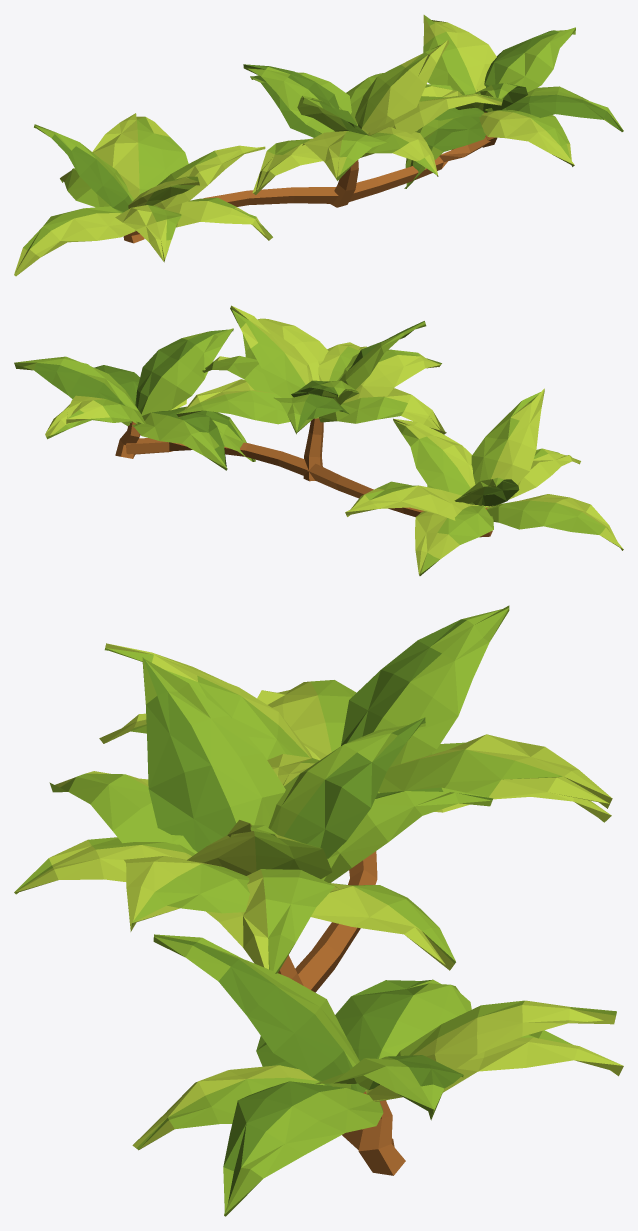
Rendered from nmg_plant_b.glb.
The picture shows the model from 3 angles, top to bottom: view 1: azimuth 30°, elevation 25°; view 2: azimuth 150°, elevation 25°; view 3: azimuth 270°, elevation 25°; orthographic projection. The views are drawn at different scales.
Visible parts, largest first — view 1: nmg_plant_b; view 2: nmg_plant_b; view 3: nmg_plant_b.
Part boxes in pixels (left/top/right/bottom): nmg_plant_b: left=14, top=15, right=623, bottom=276; nmg_plant_b: left=14, top=305, right=623, bottom=575; nmg_plant_b: left=14, top=605, right=623, bottom=1216.
Size of the model in its own units: 1.97 by 0.4833 by 0.9311.
